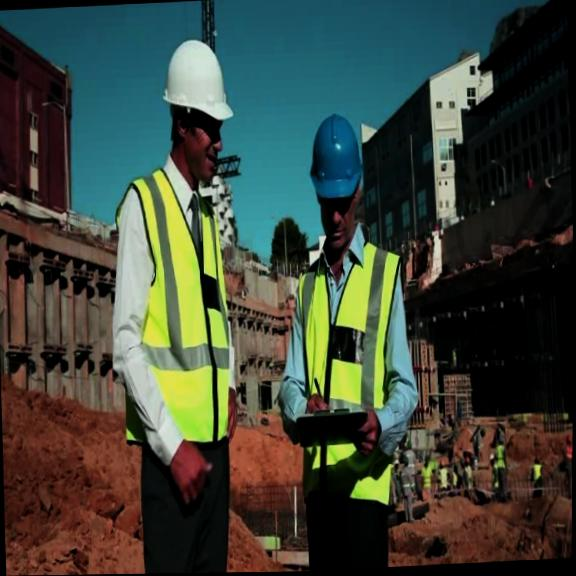safety_vest: (288, 238, 413, 520), (119, 173, 234, 455)
